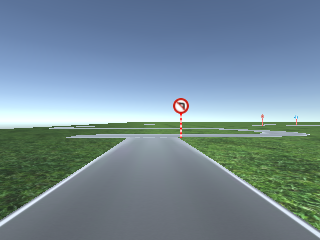0: (1, 183, 320, 239)
NoLeft: (173, 98, 189, 114)
